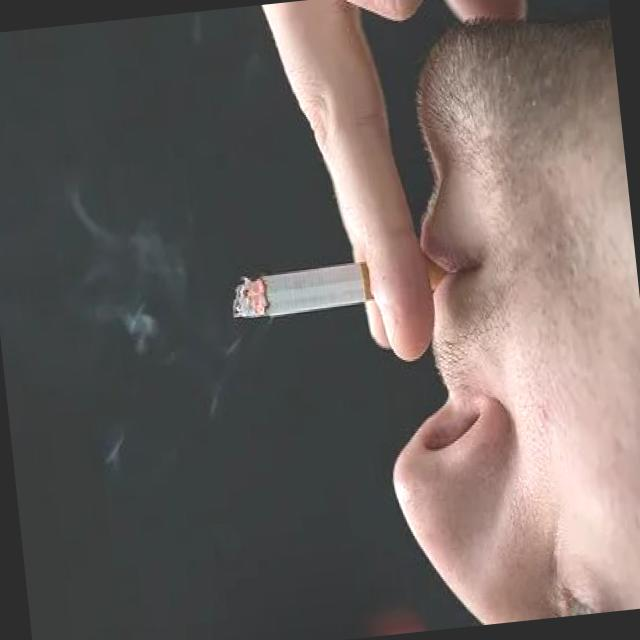cigarette: (221, 242, 451, 322)
